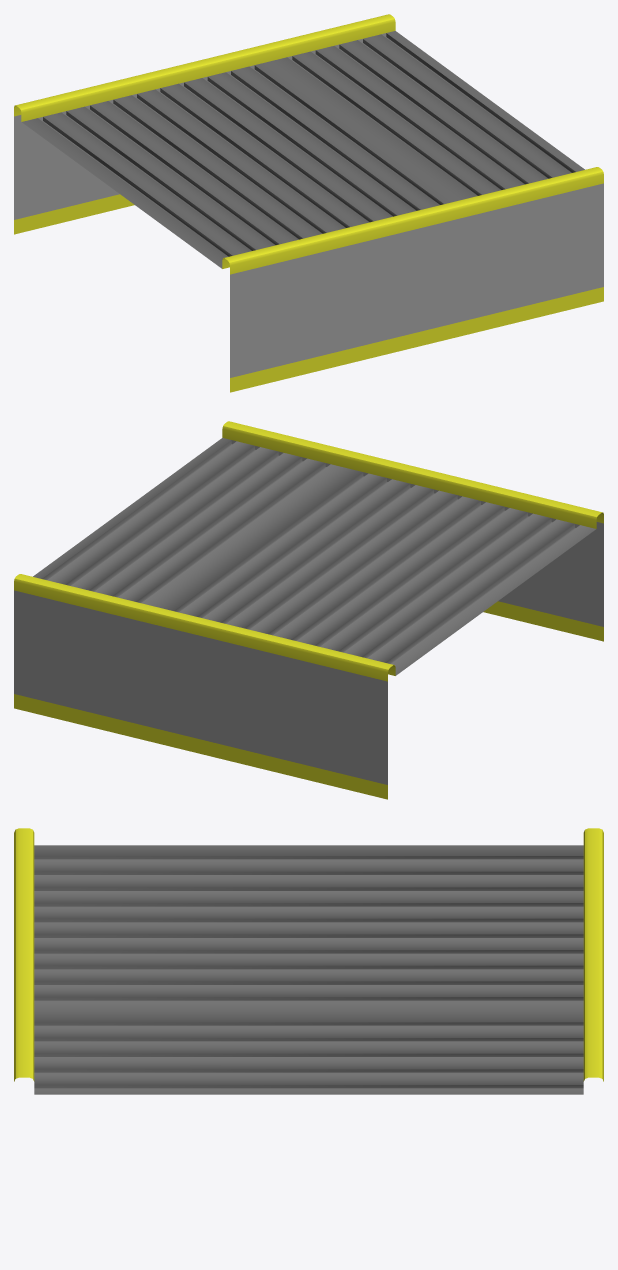
File: LongConveyorSegment.fbx
The picture shows the model from 3 angles, top to bottom: view 1: azimuth 30°, elevation 25°; view 2: azimuth 150°, elevation 25°; view 3: azimuth 270°, elevation 25°; orthographic projection. The views are drawn at different scales.
Visible parts, largest first — view 1: LongConveyorSegment; view 2: LongConveyorSegment; view 3: LongConveyorSegment.
Boxes of the visible parts, left/top/right/bottom form: LongConveyorSegment: left=14, top=14, right=603, bottom=392; LongConveyorSegment: left=14, top=421, right=603, bottom=799; LongConveyorSegment: left=14, top=828, right=603, bottom=1094.
Bounding box in the file's own units: 300 × 100 × 300.
